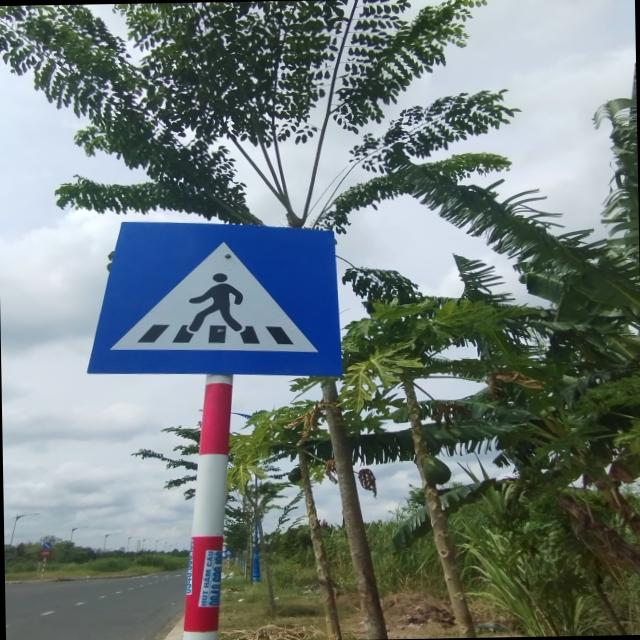Giao_Nhau_Duong_Uu_Tien: (86, 217, 342, 379)
